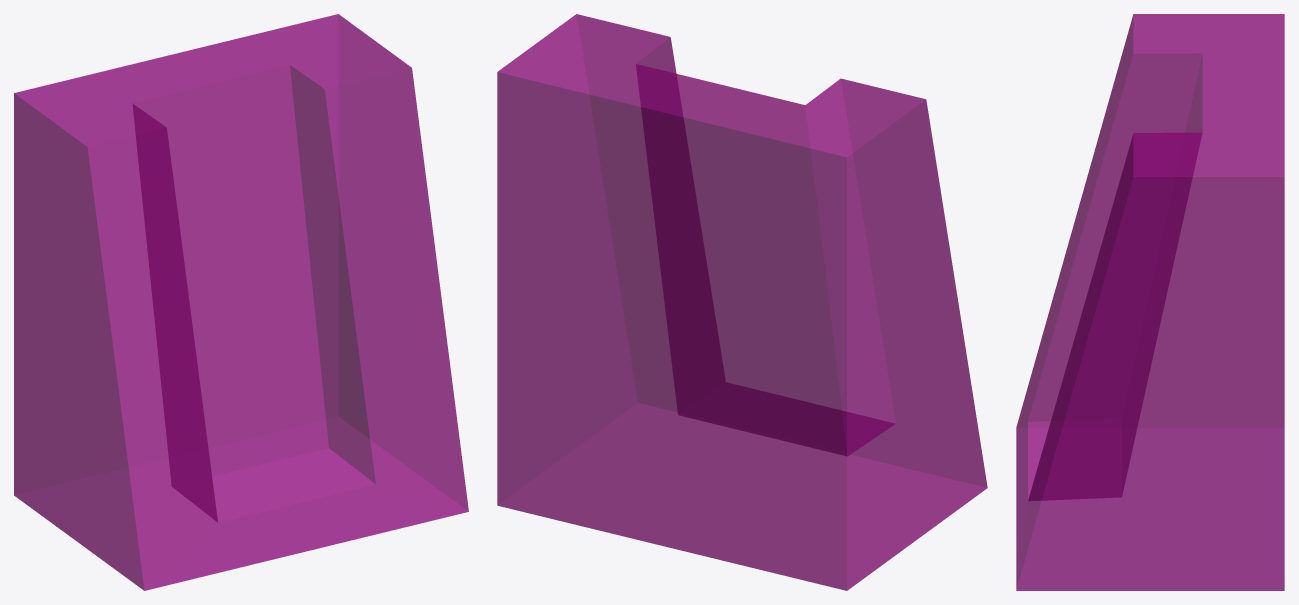
The model's file is SM_Bld_Wall_Temple_Ground_03_Collision.fbx.
The picture shows the model from 3 angles, left to right: view 1: azimuth 30°, elevation 25°; view 2: azimuth 150°, elevation 25°; view 3: azimuth 270°, elevation 25°; orthographic projection. The views are drawn at different scales.
Visible parts, largest first — view 1: SM_Bld_Wall_Temple_Ground_03_Collision; view 2: SM_Bld_Wall_Temple_Ground_03_Collision; view 3: SM_Bld_Wall_Temple_Ground_03_Collision.
Boxes of the visible parts, x1,y1,x2,y2 form: SM_Bld_Wall_Temple_Ground_03_Collision: (14,14,468,590); SM_Bld_Wall_Temple_Ground_03_Collision: (497,14,987,590); SM_Bld_Wall_Temple_Ground_03_Collision: (1016,14,1284,590).
Size of the model in its own units: 509 by 603 by 355.
